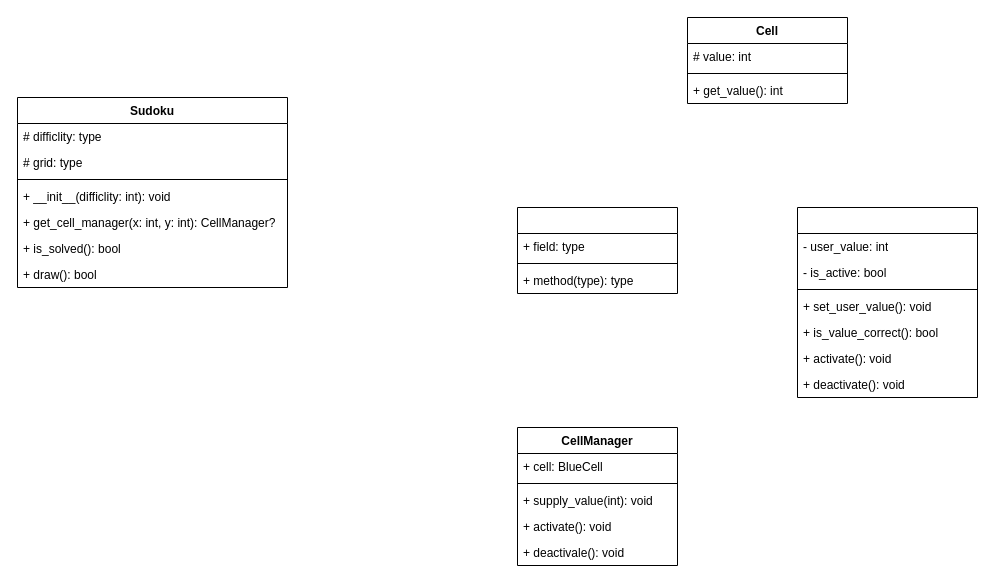
The diagram is 995 pixels wide and 586 high, and some of its shapes have lost their labels. Each missing label, with the box of its shape:
BlackCell: (516, 206, 678, 294)
BlueCell: (796, 206, 978, 398)
